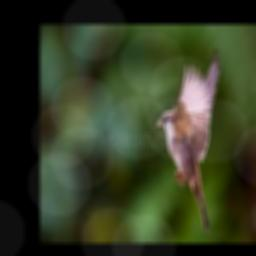Sparrow: (155, 46, 220, 231)
